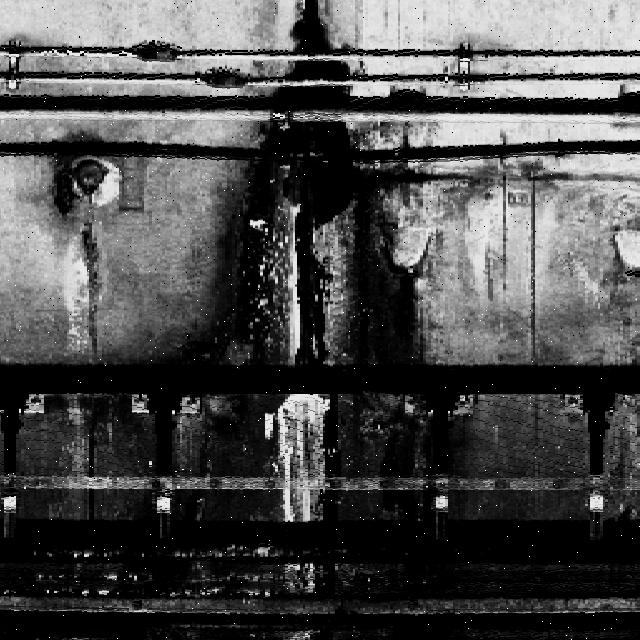leakage: (166, 1, 447, 521)
